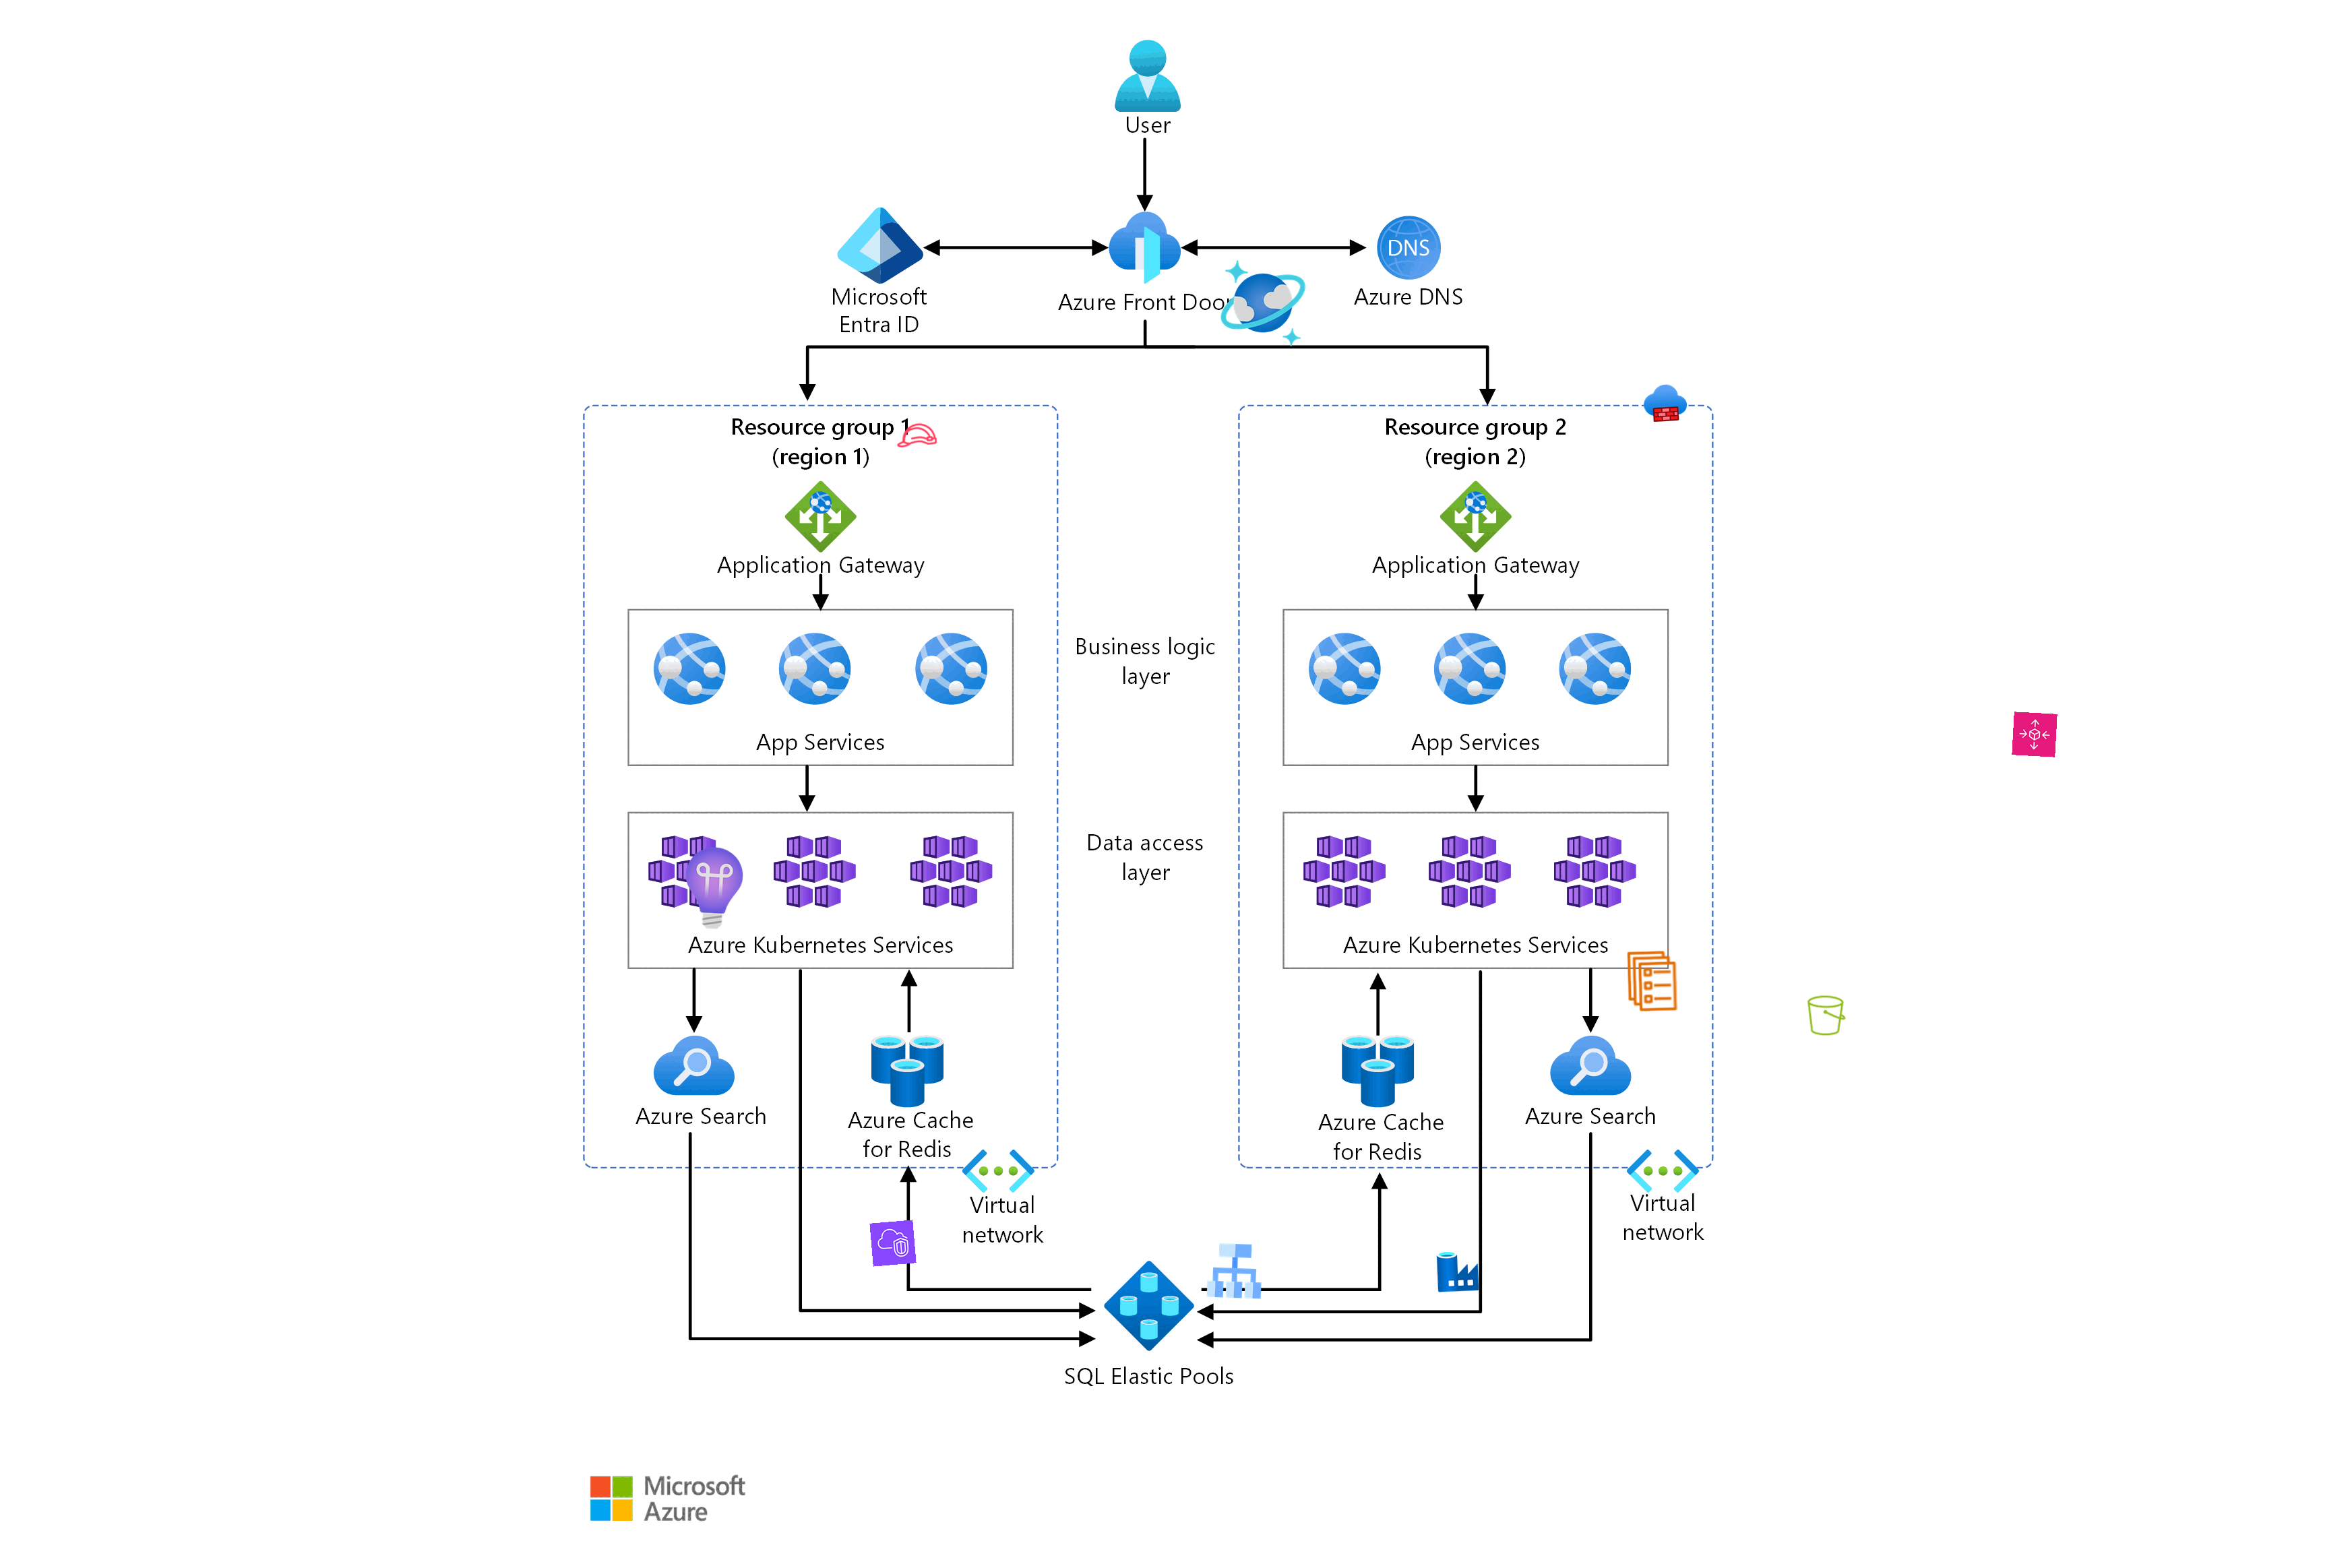aws_amazon_virtual_private_cloud: (870, 1220, 917, 1267)
aws_auto_scaling: (2012, 712, 2058, 758)
aws_elastic_container_service_service: (1619, 947, 1687, 1015)
aws_identity_access_management_role: (894, 413, 940, 459)
aws_simple_storage_service_bucket: (1804, 994, 1848, 1038)
azure_application_insights: (668, 842, 759, 935)
azure_cosmos_db: (1216, 255, 1311, 350)
azure_data_factories: (1435, 1248, 1480, 1293)
azure_firewalls: (1642, 380, 1689, 425)
gcp_cloud_load_balancing: (1200, 1237, 1269, 1304)
